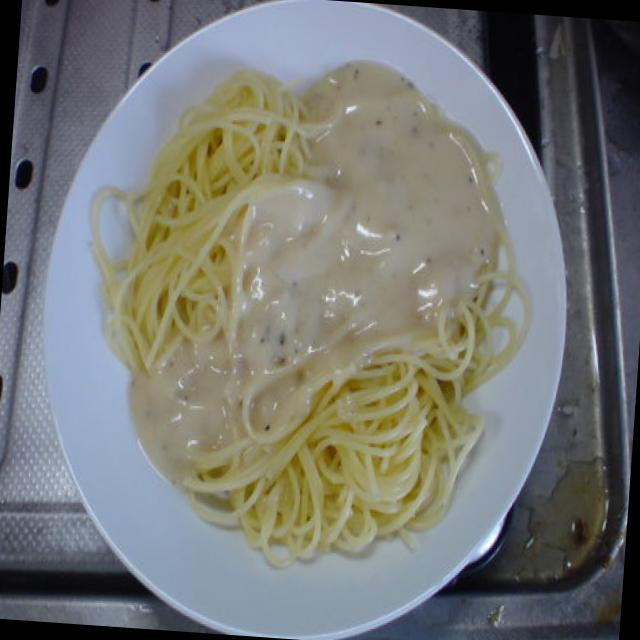Pasta: (104, 49, 512, 558)
